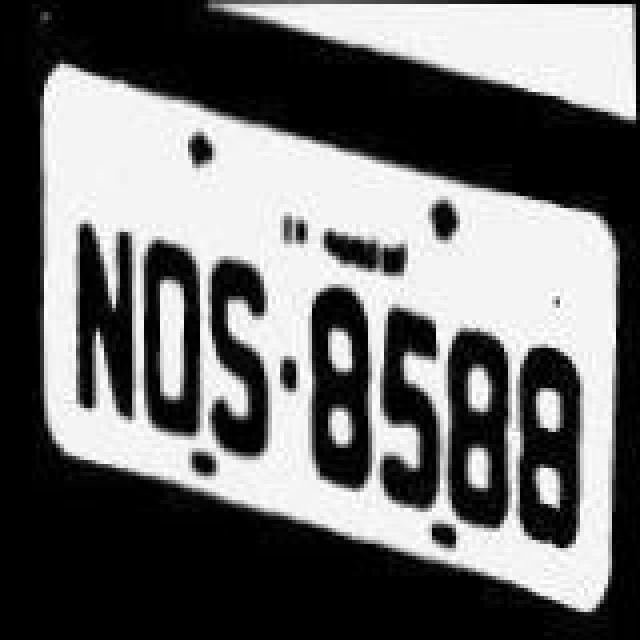5: (370, 270, 450, 514)
8: (510, 326, 590, 570), (296, 278, 380, 510), (446, 290, 518, 534)
N: (58, 198, 142, 442)
O: (136, 234, 208, 446)
S: (200, 254, 280, 458)
